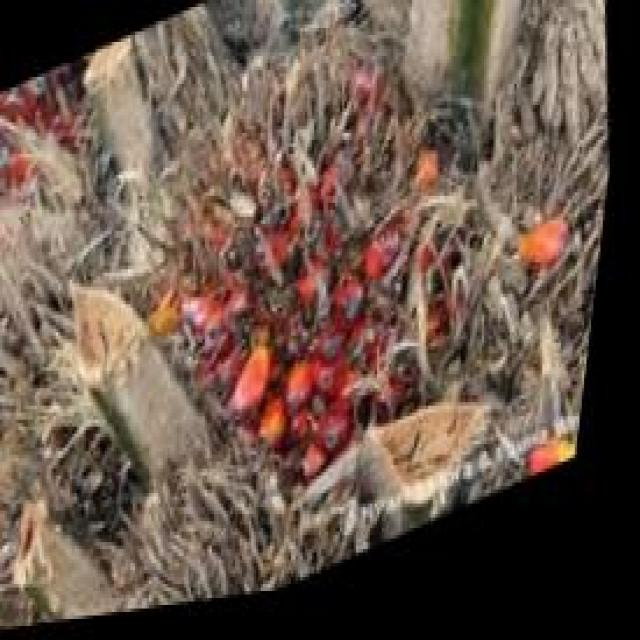Ripefruit: (109, 0, 519, 546)
